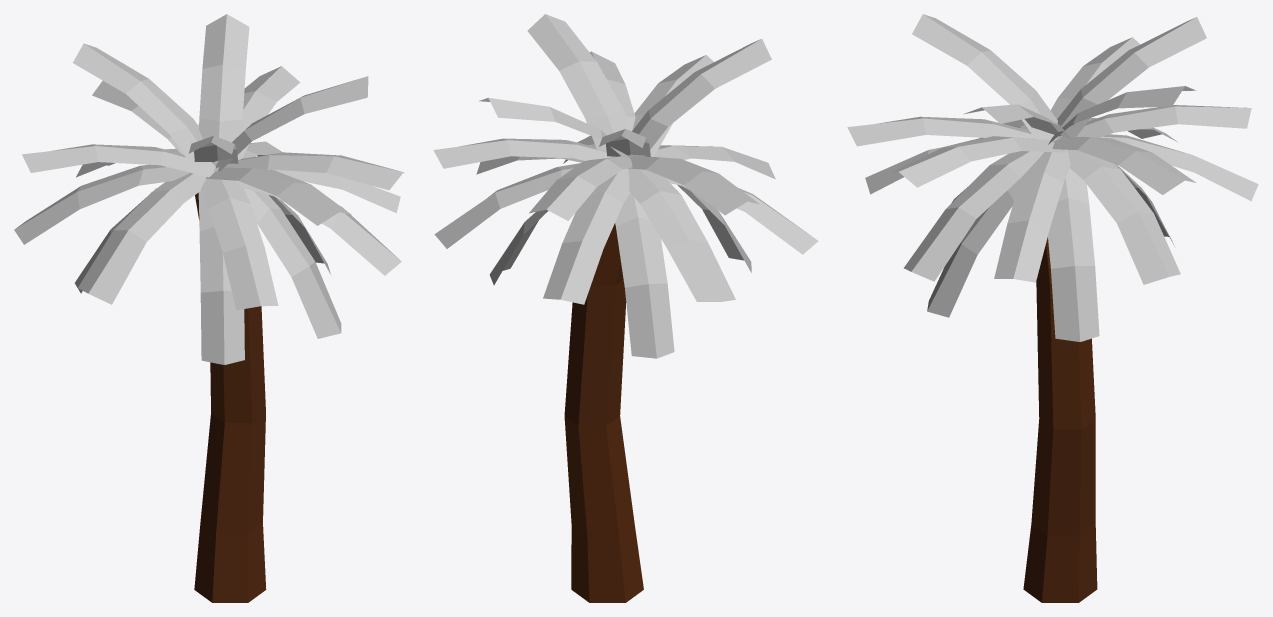
The model's file is T_Palm2Snow.fbx.
3 renders of one model, left to right at view 1: azimuth 30°, elevation 25°; view 2: azimuth 150°, elevation 25°; view 3: azimuth 270°, elevation 25°, orthographic. The views are drawn at different scales.
Visible parts, largest first — view 1: Cylinder; view 2: Cylinder; view 3: Cylinder.
Boxes of the visible parts, x1,y1,x2,y2 form: Cylinder: (14, 14, 404, 602); Cylinder: (433, 14, 818, 602); Cylinder: (847, 14, 1258, 602).
Bounding box in the file's own units: 7.36 × 11.27 × 7.89.
